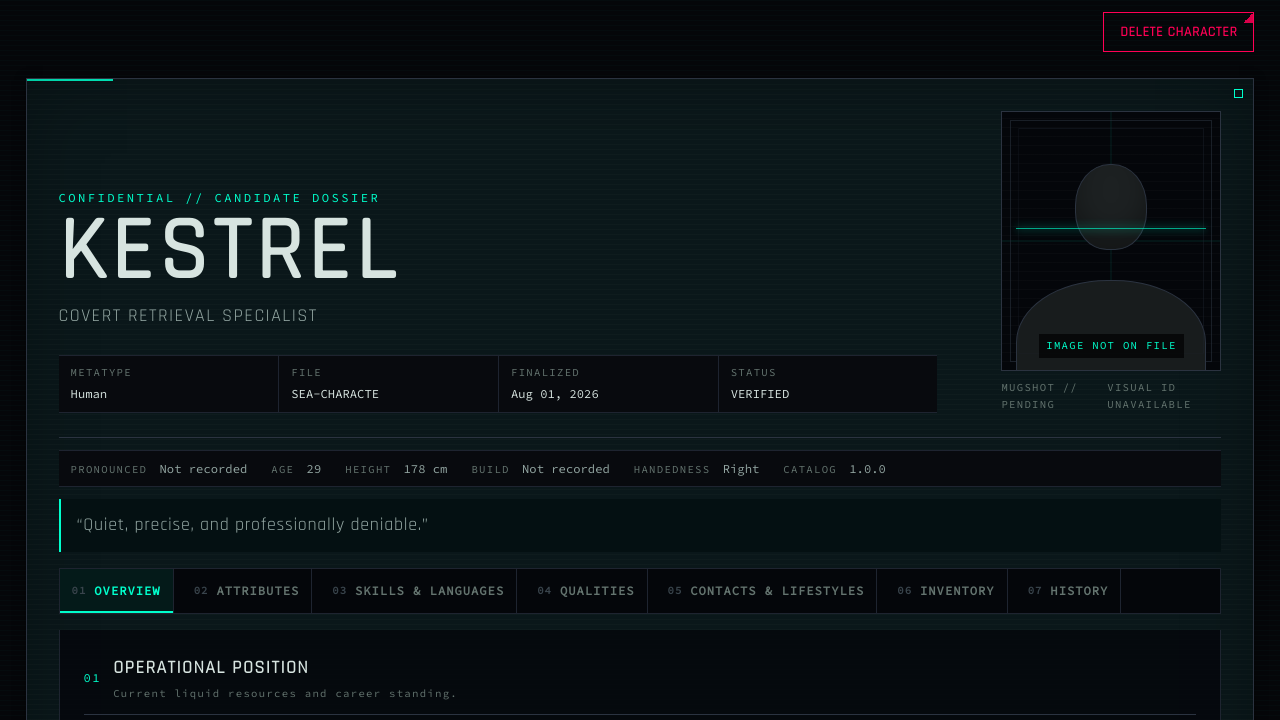
Scenario: CharacterSheetPage › renders overview balances and a resolved catalog name once loaded
Expected: the heading "Kestrel" is shown, [59, 196, 400, 308]
Expected: the picture named "Mugshot unavailable" is shown, [1001, 111, 1221, 413]
Step 1. Click the tab "Attributes" → (247, 591), box [182, 569, 312, 613]
(page scrolled)
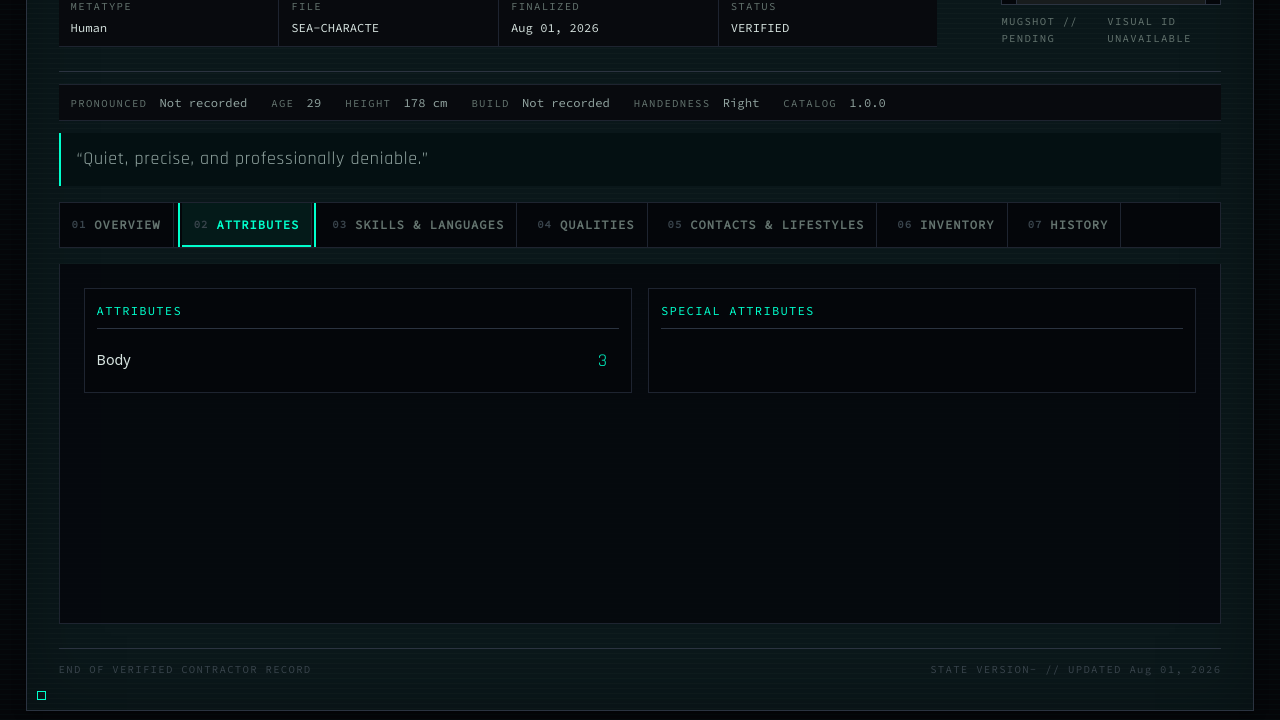
Expected: the text "Body" is shown, [97, 350, 131, 370]
